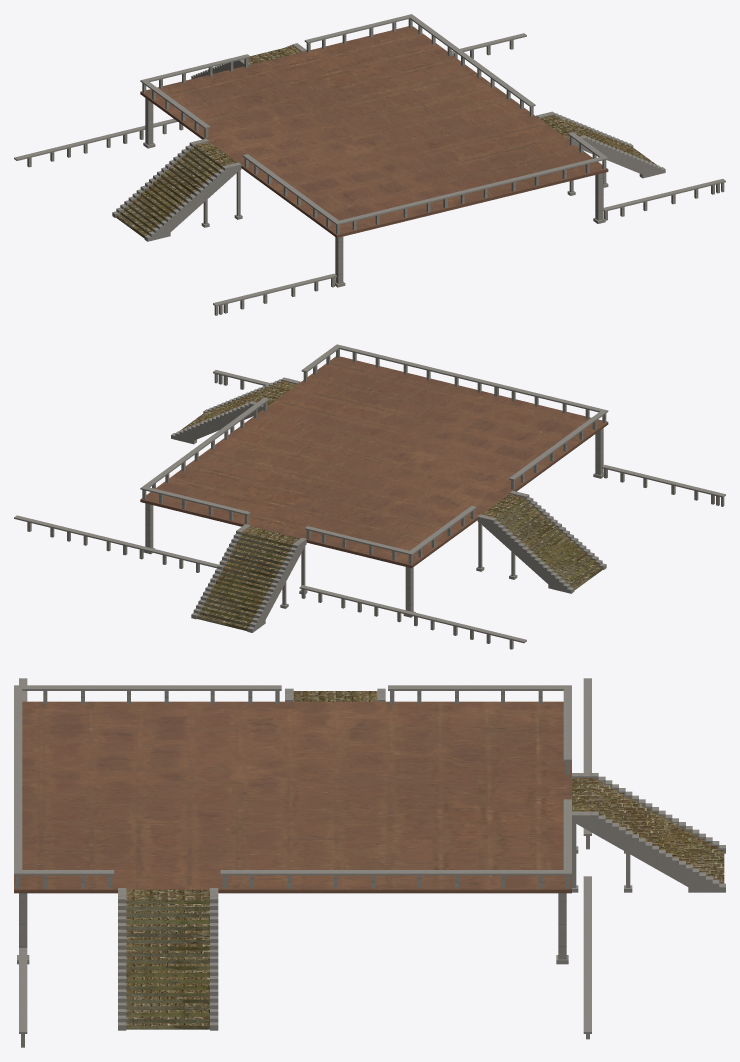
The model's file is WallBldg2.fbx.
3 renders of one model, top to bottom at view 1: azimuth 30°, elevation 25°; view 2: azimuth 150°, elevation 25°; view 3: azimuth 270°, elevation 25°, orthographic. The views are drawn at different scales.
Visible parts, largest first — view 1: polySurface68; view 2: polySurface68; view 3: polySurface68.
Boxes of the visible parts, x1=… form: polySurface68: x1=14, y1=14, x2=725, y2=315; polySurface68: x1=14, y1=344, x2=725, y2=649; polySurface68: x1=14, y1=678, x2=725, y2=1047.
Bounding box in the file's own units: 100 × 12.21 × 85.1.
4 materials, 4 textured.
